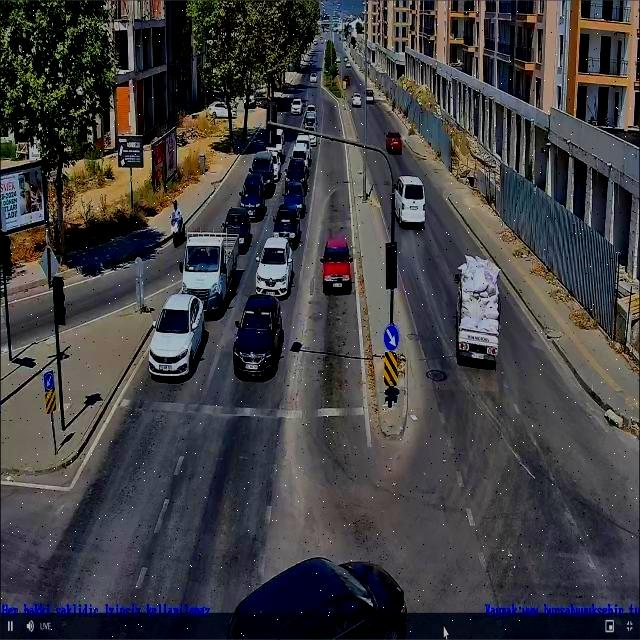Car: (224, 559, 406, 637), (147, 294, 206, 378), (231, 294, 284, 378), (254, 236, 295, 298), (319, 238, 354, 294), (220, 206, 252, 252), (237, 172, 267, 219), (272, 202, 301, 247), (249, 150, 275, 196), (281, 180, 307, 218), (284, 157, 309, 189), (289, 142, 309, 172), (266, 150, 282, 183), (207, 101, 236, 119), (384, 130, 404, 154), (294, 133, 314, 157), (302, 122, 319, 146), (290, 97, 305, 117), (352, 93, 362, 107), (366, 88, 374, 104), (343, 75, 351, 86), (310, 72, 318, 82), (346, 62, 352, 68), (344, 57, 348, 63)
Cycle: (168, 213, 185, 247)
Truck: (179, 229, 240, 315), (453, 271, 501, 368)
Van: (391, 174, 427, 229), (264, 126, 285, 162)
